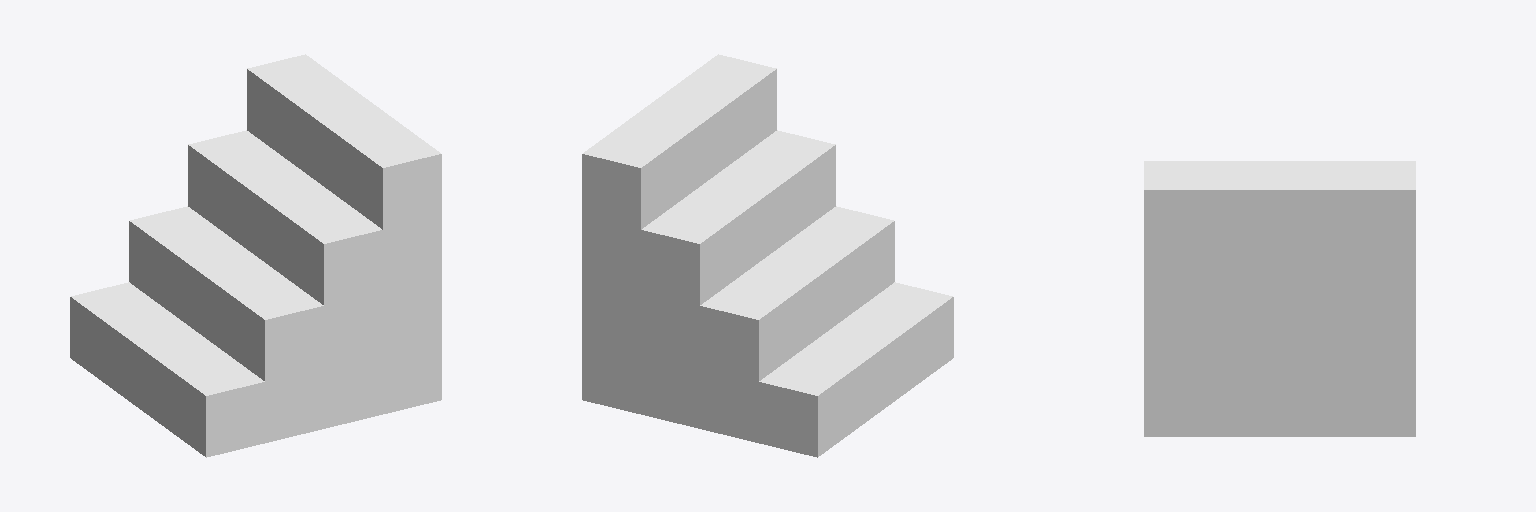
The model's file is stair_gray.obj.
3 renders of one model, left to right at view 1: azimuth 30°, elevation 25°; view 2: azimuth 150°, elevation 25°; view 3: azimuth 270°, elevation 25°, orthographic.
Visible parts, largest first — view 1: object 1; view 2: object 1; view 3: object 1.
Part boxes in pixels (left/top/right/bottom): object 1: left=70, top=54, right=441, bottom=457; object 1: left=582, top=54, right=953, bottom=457; object 1: left=1144, top=161, right=1415, bottom=436.
Bounding box in the file's own units: 0.8 × 0.8 × 0.8.